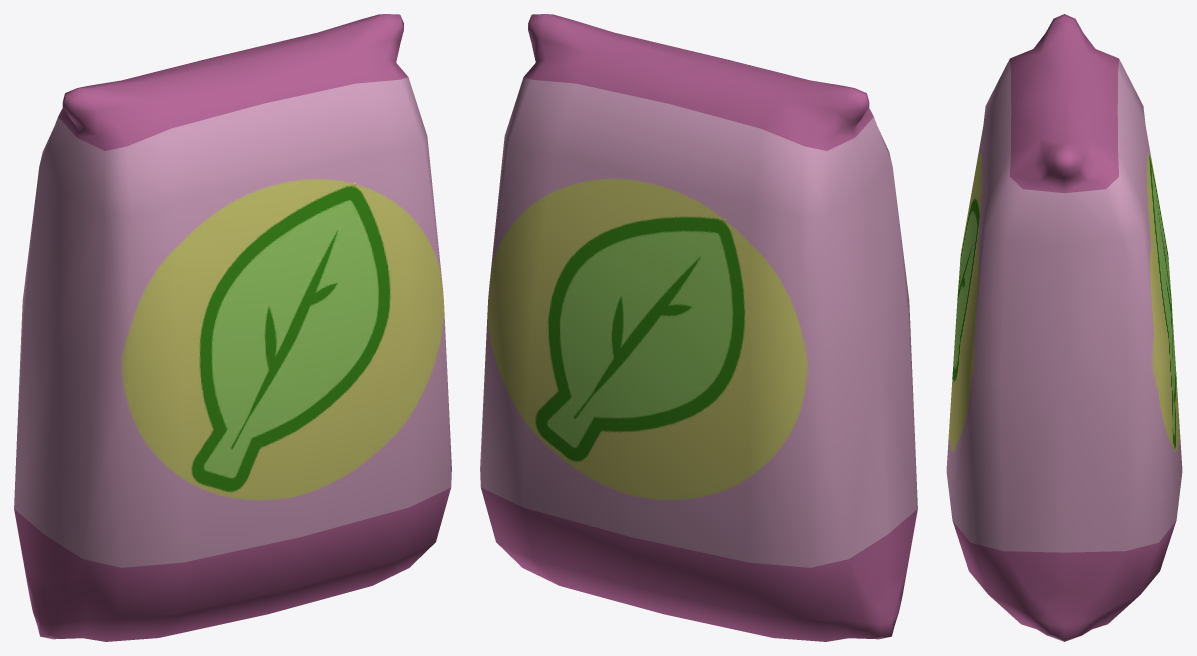
The model's file is Fertilizer.fbx.
3 views of the same model, side by side, from view 1: azimuth 30°, elevation 25°; view 2: azimuth 150°, elevation 25°; view 3: azimuth 270°, elevation 25° (orthographic). The views are drawn at different scales.
Parts seen in each view (by area): view 1: BagOfStuff; view 2: BagOfStuff; view 3: BagOfStuff.
Part boxes in pixels (left/top/right/bottom): BagOfStuff: left=14, top=14, right=451, bottom=641; BagOfStuff: left=480, top=14, right=917, bottom=641; BagOfStuff: left=946, top=14, right=1182, bottom=641.
Bounding box in the file's own units: 0.6883 × 0.9522 × 0.4158.
